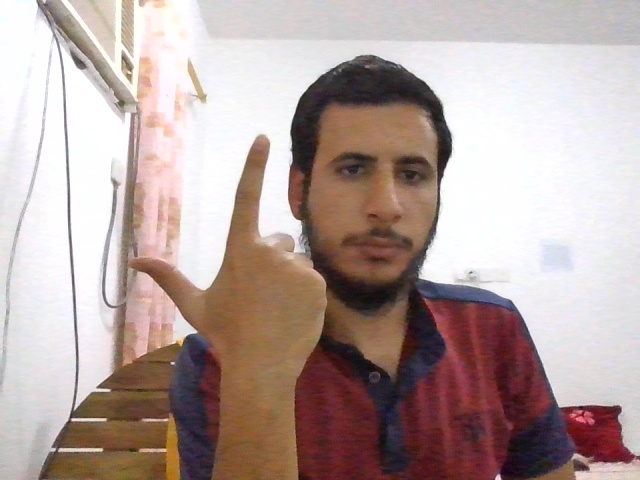Two: (129, 134, 326, 367)
